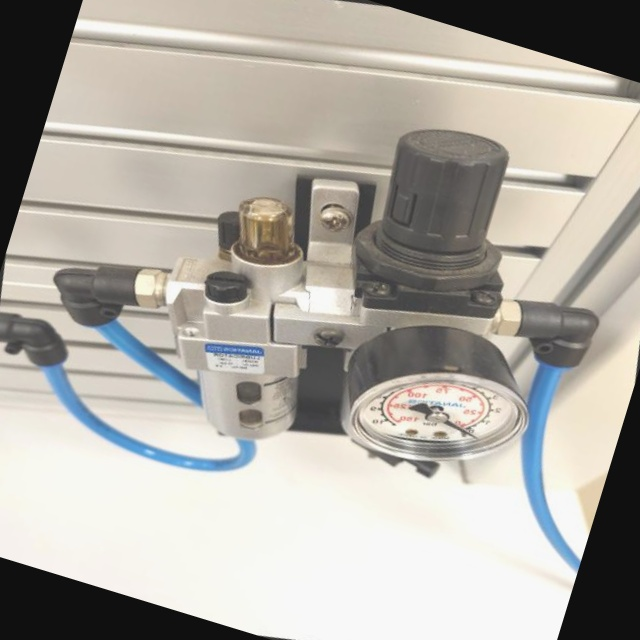FRL unit: (49, 7, 640, 599)
